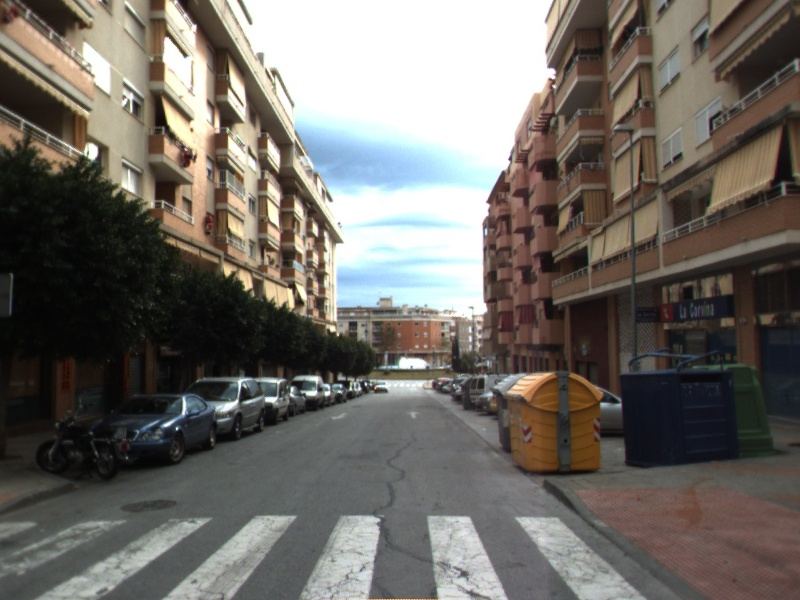STRAIGHT: (404, 409, 422, 420)
